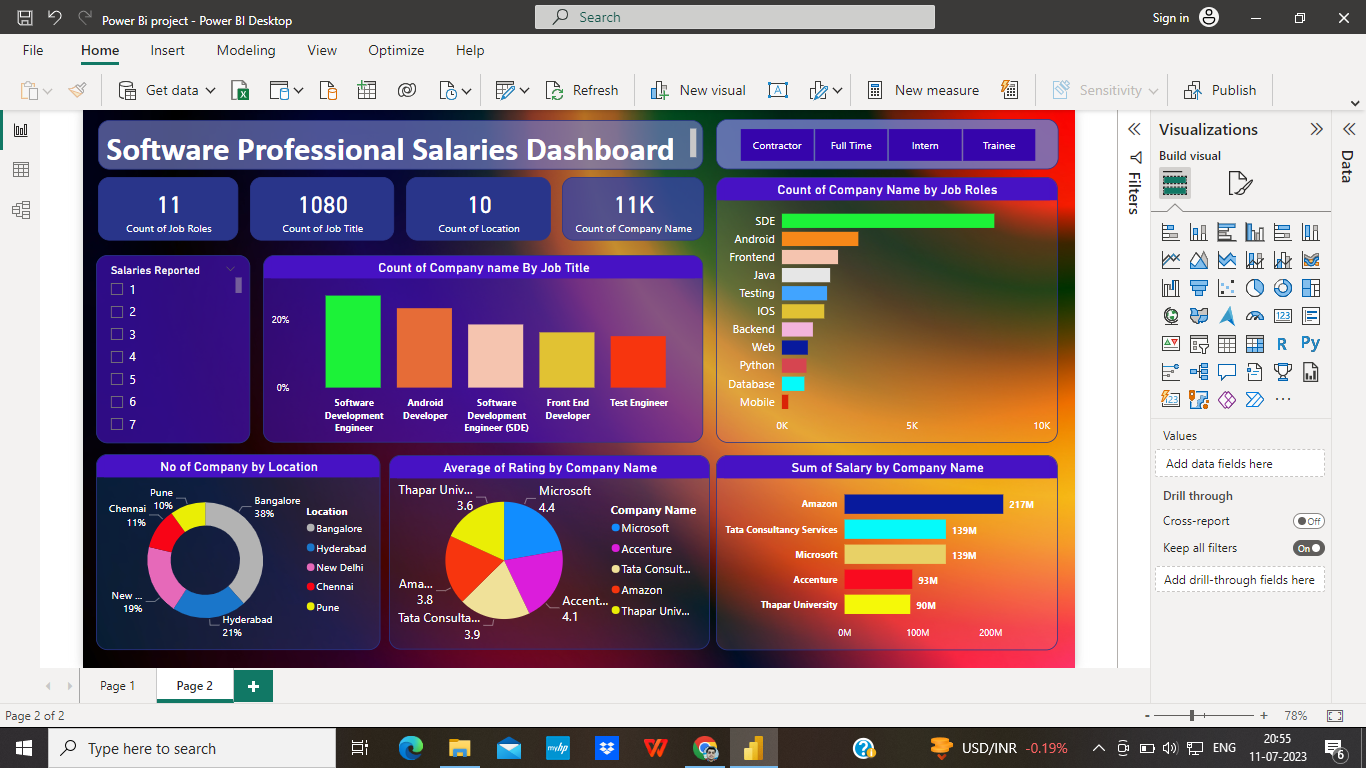

What the dashboard file says about the page in this screenshot:
{"tool":"powerbi","page":{"name":"Page 1","canvas":[1280,720],"ordinal":0},"visuals":[{"type":"columnChart","title":"Count of Company name By Job Title","fields":{"Category":["Salary_Dataset_with_Extra_Features.Job Title"],"Y":["CountNonNull(Salary_Dataset_with_Extra_Features.Company Name)"]},"box":[232.4,187.1,568.3,242.4],"z":0},{"type":"clusteredBarChart","title":"Count of Company Name by Job Roles","fields":{"Category":["Salary_Dataset_with_Extra_Features.Job Roles"],"Y":["CountNonNull(Salary_Dataset_with_Extra_Features.Company Name)"]},"box":[816.4,86.5,440.8,343],"z":1000},{"type":"clusteredBarChart","fields":{"Category":["Salary_Dataset_with_Extra_Features.Company Name"],"Y":["Sum(Salary_Dataset_with_Extra_Features.Salary)"]},"box":[816.8,445.2,441.3,251.6],"z":2000},{"type":"donutChart","title":"No of Company by Location","fields":{"Category":["Salary_Dataset_with_Extra_Features.Location"],"Y":["CountNonNull(Salary_Dataset_with_Extra_Features.Company Name)"]},"box":[17.1,444.3,367.1,252.9],"z":3000},{"type":"pieChart","fields":{"Category":["Salary_Dataset_with_Extra_Features.Company Name"],"Y":["Avg(Salary_Dataset_with_Extra_Features.Rating)"]},"box":[394.3,445.7,414.3,251.4],"z":4000},{"type":"slicer","fields":{"Values":["Salary_Dataset_with_Extra_Features.Employment Status"]},"box":[816.4,11.3,442.2,65.2],"z":5000},{"type":"card","fields":{"Values":["Count(Salary_Dataset_with_Extra_Features.Company Name)"]},"box":[618,86.5,182.8,82.2],"z":6000},{"type":"card","fields":{"Values":["Count(Salary_Dataset_with_Extra_Features.Location)"]},"box":[416.7,86.5,187.1,82.2],"z":7000},{"type":"card","fields":{"Values":["Count(Salary_Dataset_with_Extra_Features.Job Roles)"]},"box":[19.8,86.5,181.4,82.2],"z":8000},{"type":"card","fields":{"Values":["Count(Salary_Dataset_with_Extra_Features.Job Title)"]},"box":[215.4,86.5,185.7,82.2],"z":9000},{"type":"textbox","box":[19.8,12.8,780.9,63.8],"z":10000},{"type":"slicer","fields":{"Values":["Salary_Dataset_with_Extra_Features.Salaries Reported"]},"box":[17.1,187.1,198.6,242.9],"z":11000}]}

Visuals, with their boxes in screenshot pixels (x1, y1, x2, y2):
"Count of Company name By Job Title" columnChart: (296,208,873,454)
"Count of Company Name by Job Roles" clusteredBarChart: (889,106,1337,454)
clusteredBarChart - Salary_Dataset_with_Extra_Features.Company Name x Sum(Salary_Dataset_with_Extra_Features.Salary): (890,470,1338,725)
"No of Company by Location" donutChart: (78,469,450,726)
pieChart - Salary_Dataset_with_Extra_Features.Company Name x Avg(Salary_Dataset_with_Extra_Features.Rating): (461,470,881,725)
slicer - Salary_Dataset_with_Extra_Features.Employment Status: (889,29,1338,95)
card - Count(Salary_Dataset_with_Extra_Features.Company Name): (688,106,873,189)
card - Count(Salary_Dataset_with_Extra_Features.Location): (483,106,673,189)
card - Count(Salary_Dataset_with_Extra_Features.Job Roles): (81,106,265,189)
card - Count(Salary_Dataset_with_Extra_Features.Job Title): (279,106,468,189)
textbox: (81,31,873,96)
slicer - Salary_Dataset_with_Extra_Features.Salaries Reported: (78,208,279,454)
